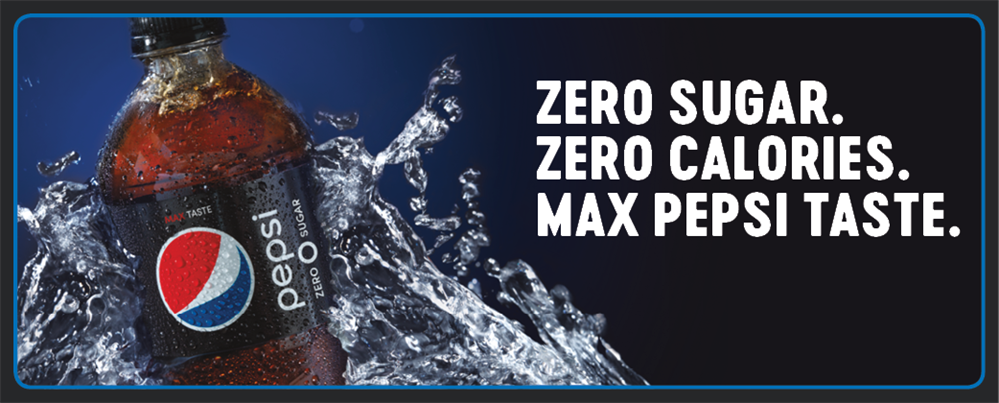pepsi: (151, 223, 254, 333)
